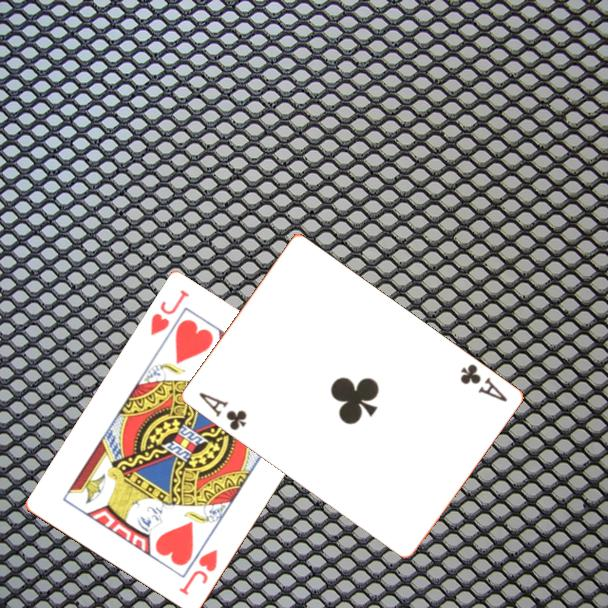c01: (195, 389, 250, 434), (456, 360, 510, 405)
h11: (175, 546, 221, 599), (147, 287, 192, 339)
